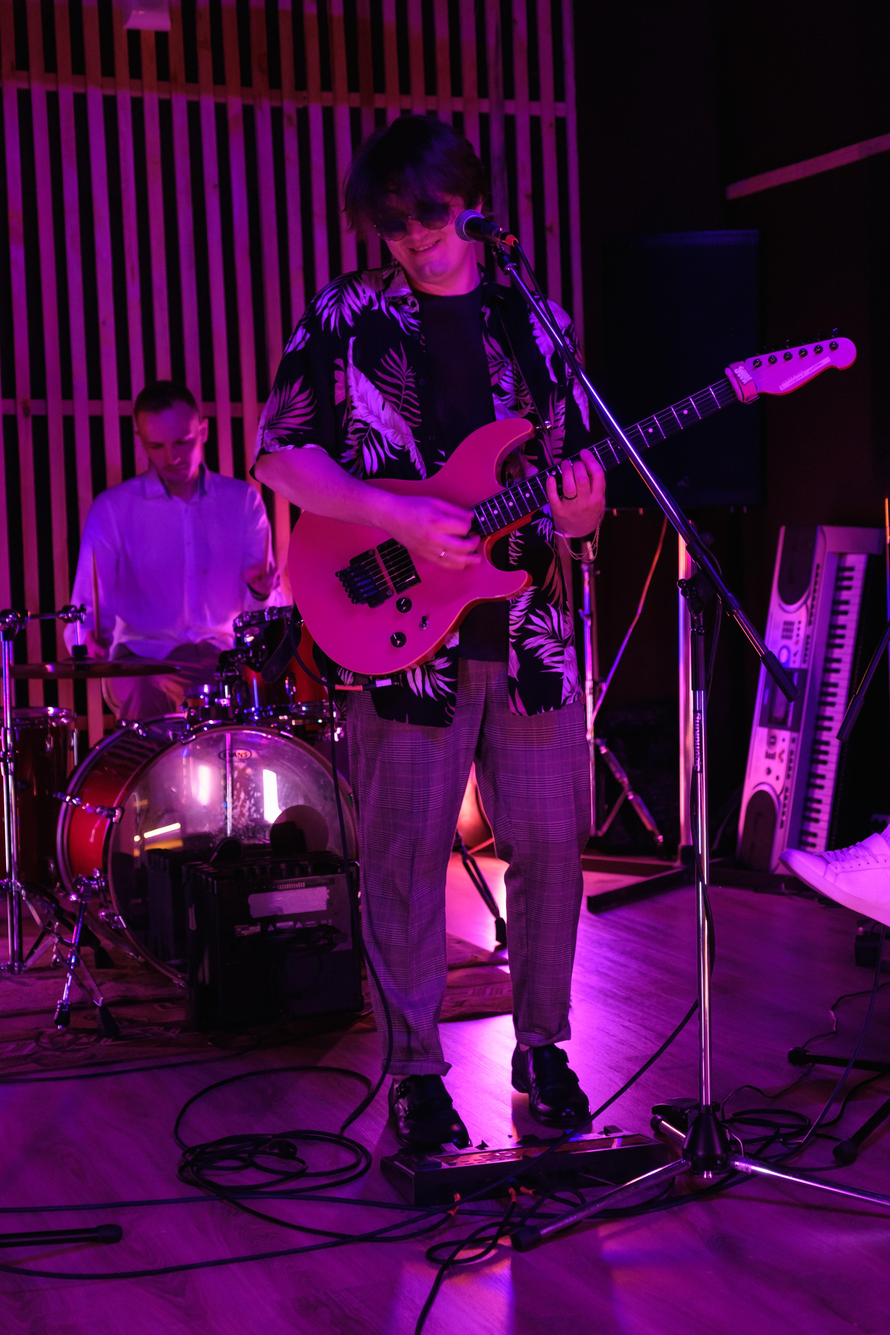acousticguitar: (287, 330, 857, 693)
